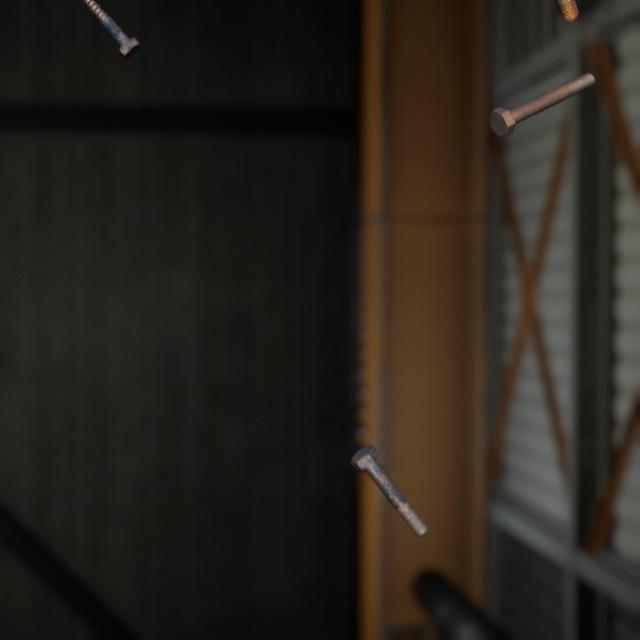bolt: (346, 419, 432, 520), (484, 57, 599, 129), (82, 0, 144, 55), (552, 0, 582, 23)
